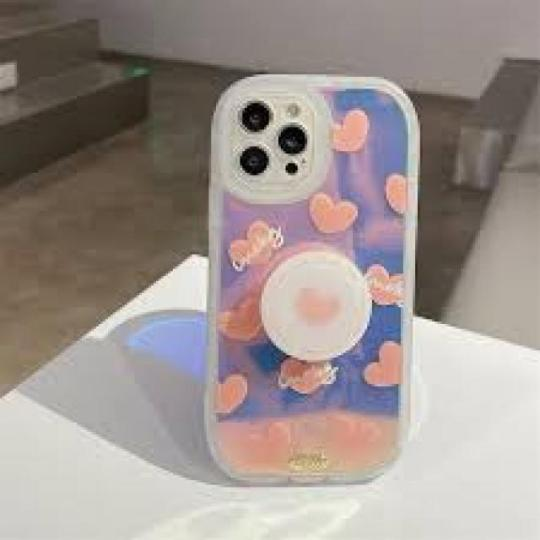phone: (200, 65, 424, 492)
